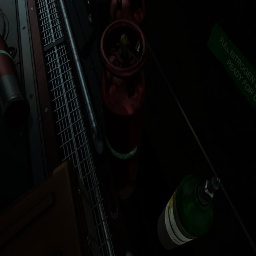0: (158, 174, 220, 250)
NitrogenTank ,: (100, 19, 148, 199), (0, 34, 30, 128), (110, 0, 146, 58)
